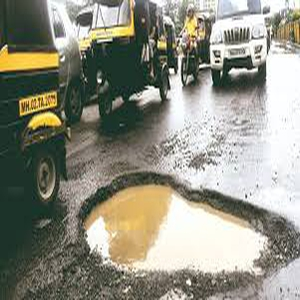pothole: (65, 168, 300, 283)
